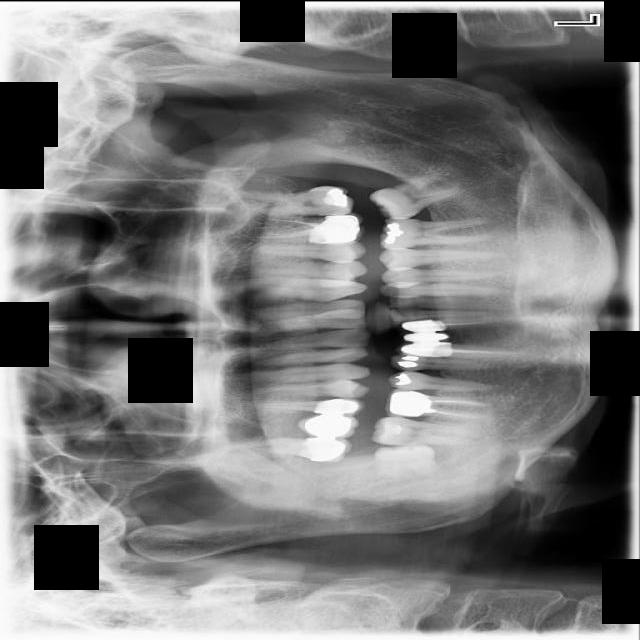52: (294, 394, 371, 465), (390, 317, 453, 357), (313, 209, 368, 248), (369, 410, 418, 450), (383, 386, 430, 421), (303, 185, 354, 216), (379, 216, 424, 250), (387, 369, 431, 390), (389, 351, 432, 370)
73: (242, 213, 320, 243), (422, 394, 488, 422), (444, 342, 525, 361), (435, 318, 503, 329), (582, 50, 598, 56)
BioHorizons Implant: (242, 184, 354, 216)
Blue Sky Bio Implant: (367, 165, 464, 228)
Caries: (249, 434, 354, 463)
Implant: (370, 415, 467, 447)
Keystone Dental Implant: (374, 439, 437, 479)
